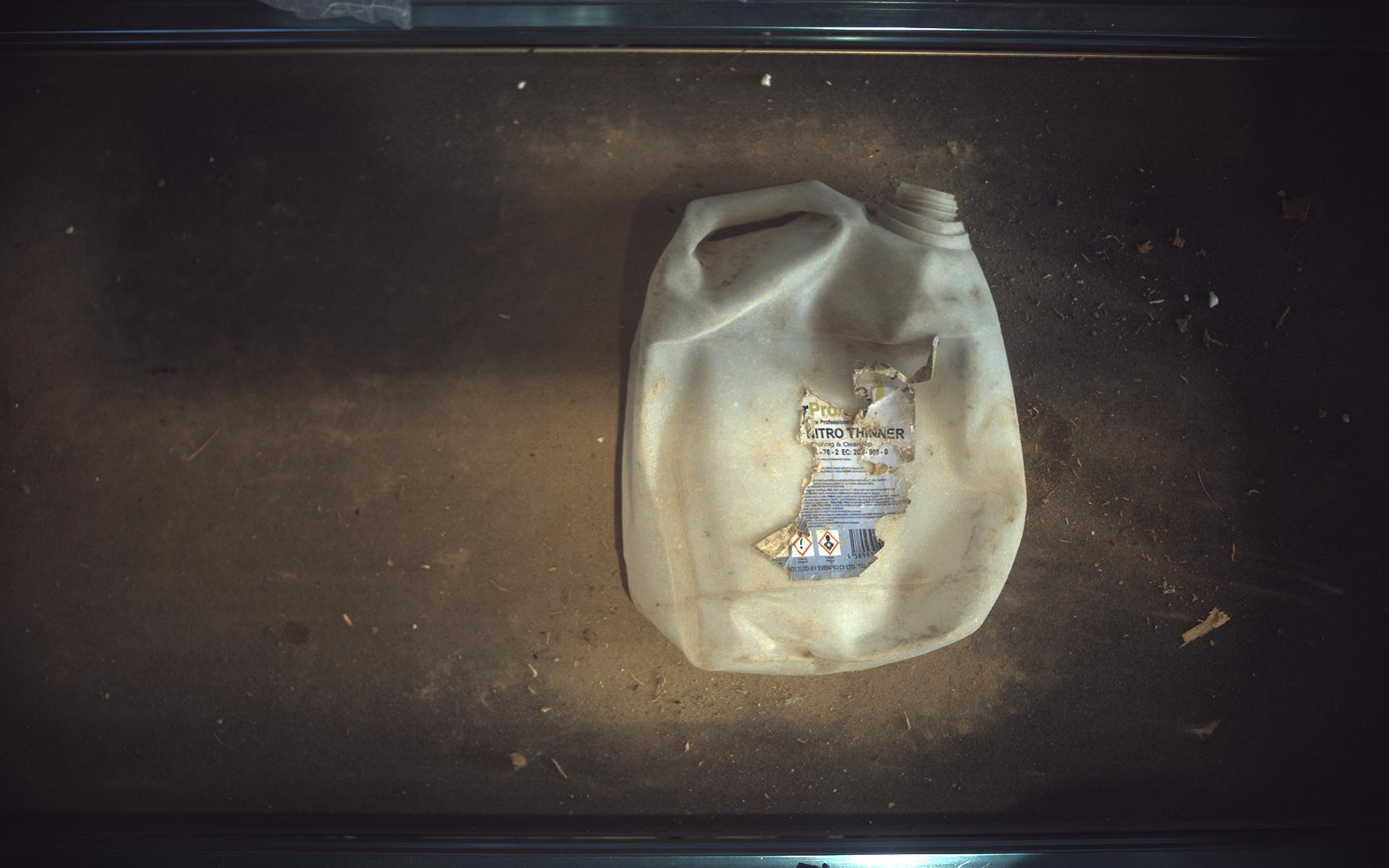general_w: (623, 180, 1029, 676)
